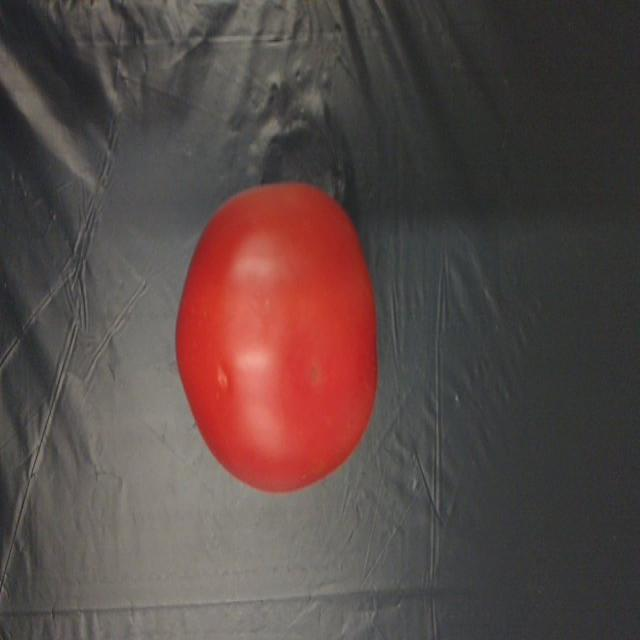kirmizi: (169, 179, 384, 495)
